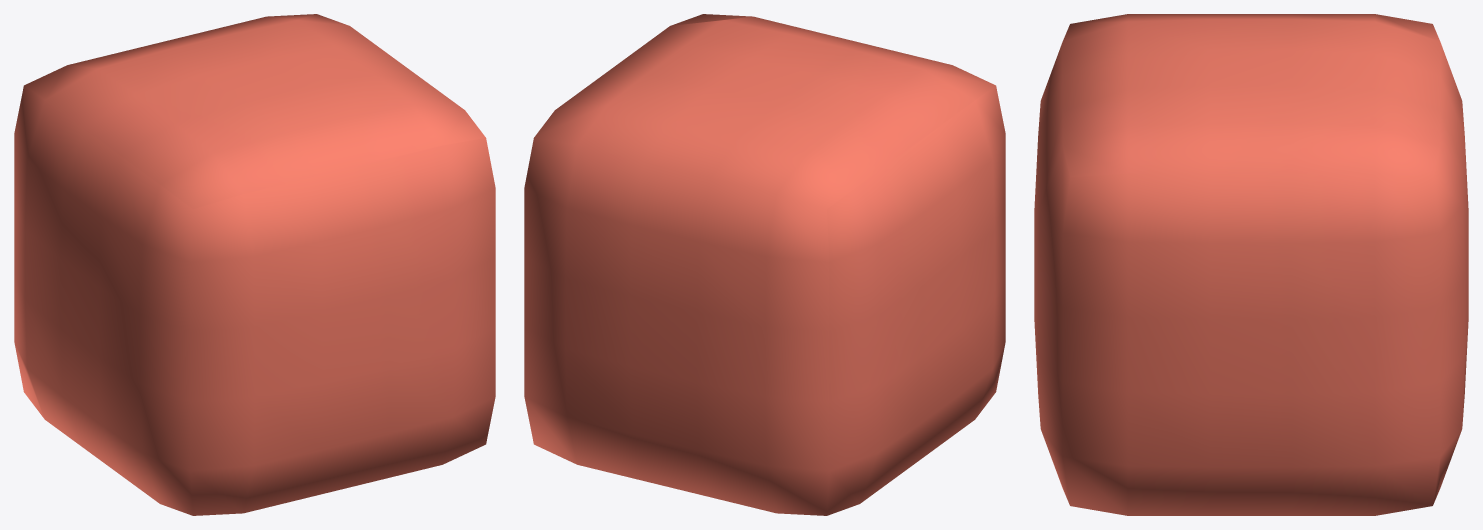
File: 积木方块06.glb
The picture shows the model from 3 angles, left to right: view 1: azimuth 30°, elevation 25°; view 2: azimuth 150°, elevation 25°; view 3: azimuth 270°, elevation 25°; orthographic projection. The views are drawn at different scales.
Parts seen in each view (by area): view 1: BlockCube06; view 2: BlockCube06; view 3: BlockCube06.
Part boxes in pixels (x1=…): BlockCube06: x1=14, y1=14, x2=495, y2=515; BlockCube06: x1=524, y1=14, x2=1005, y2=515; BlockCube06: x1=1034, y1=14, x2=1468, y2=515.
Size of what is drawn, in the model's own units: 0.0633 by 0.0633 by 0.0633.
1 material, 1 textured.
